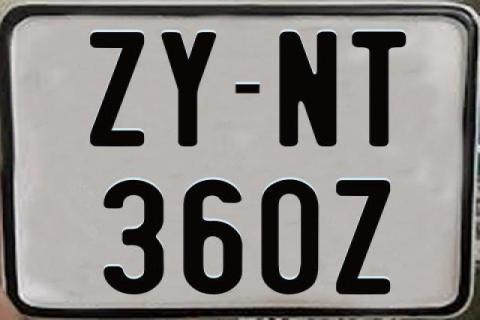0: (180, 178, 245, 298), (101, 179, 168, 295), (260, 180, 319, 296)
N: (279, 31, 340, 148)
T: (350, 30, 408, 146)
Y: (158, 29, 213, 145)
Z: (335, 178, 390, 298), (90, 31, 145, 148)
